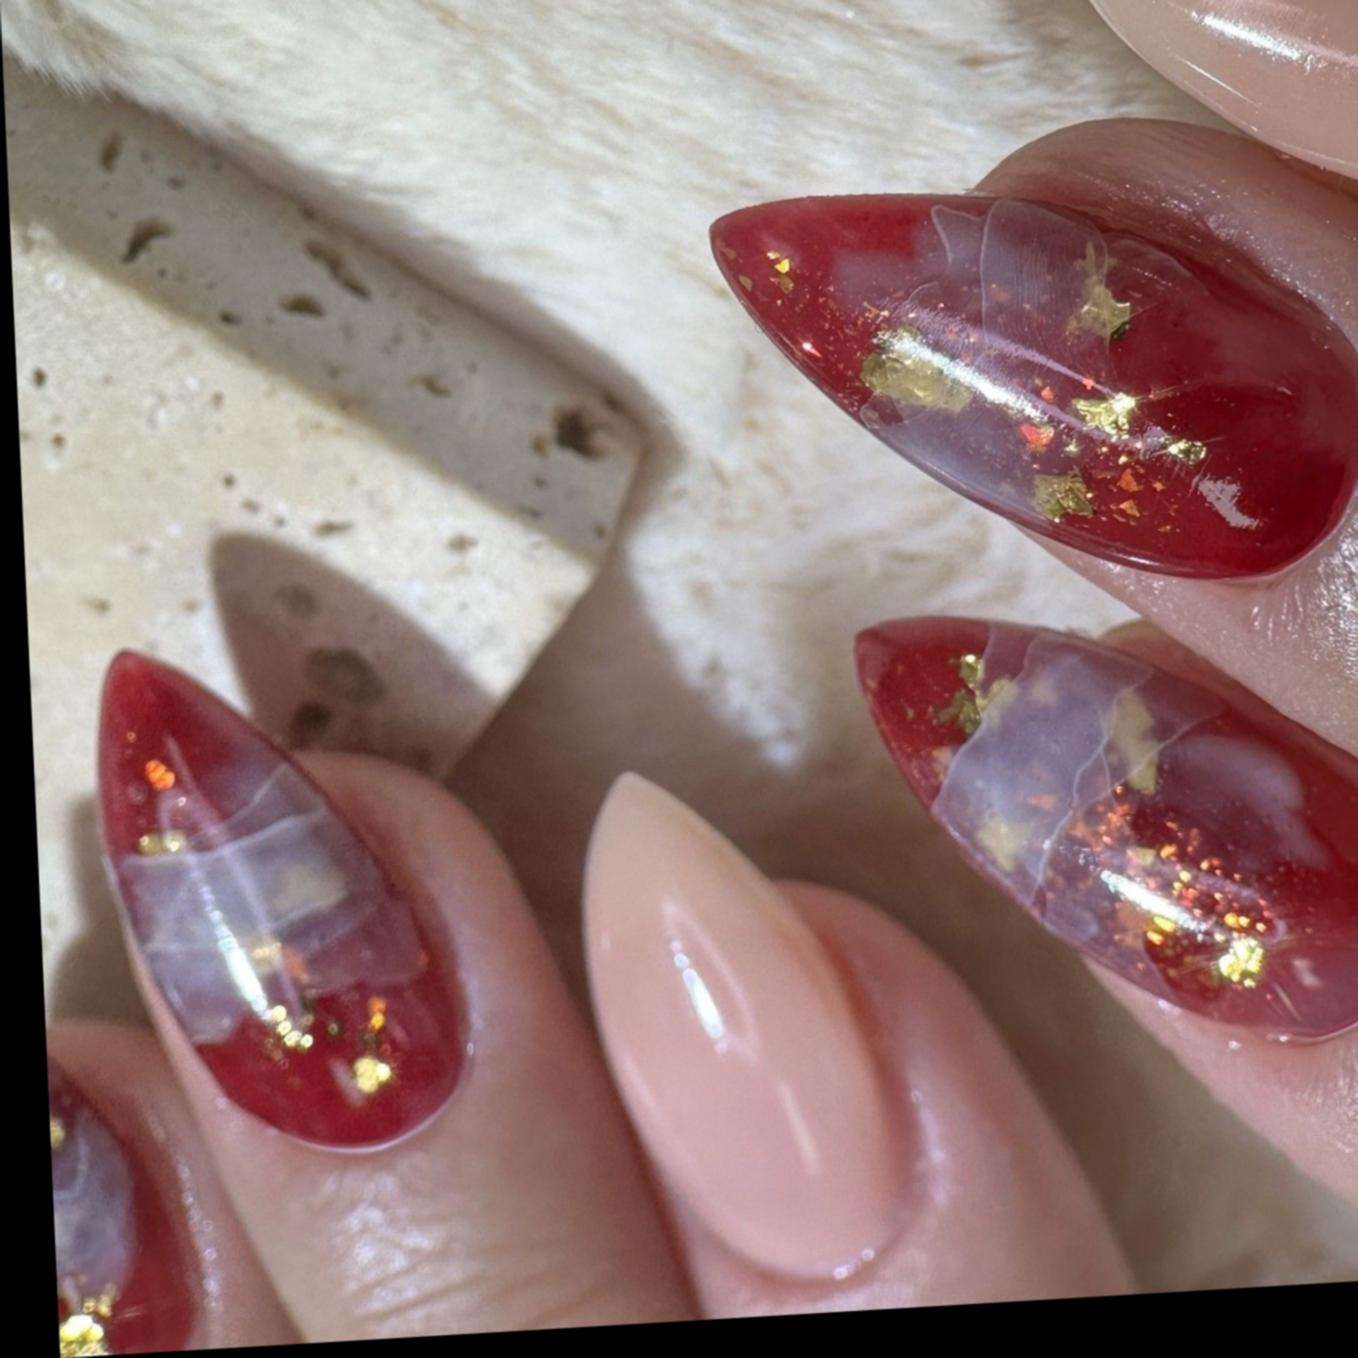nail: (705, 160, 1358, 618), (852, 589, 1358, 1074), (90, 630, 476, 1173), (573, 755, 918, 1305), (1068, 0, 1358, 231)
